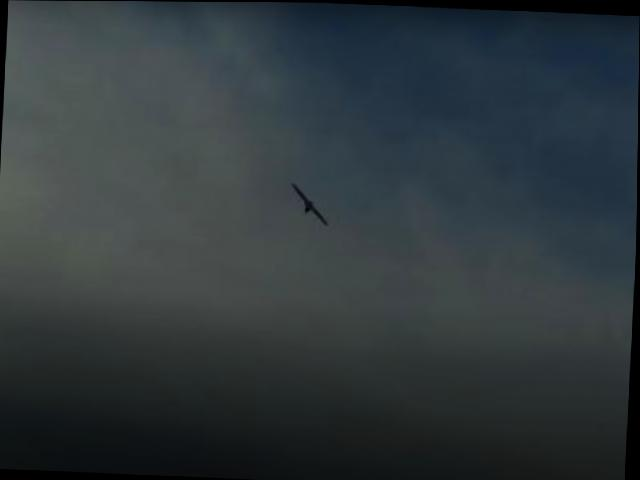uav: (291, 181, 333, 230)
